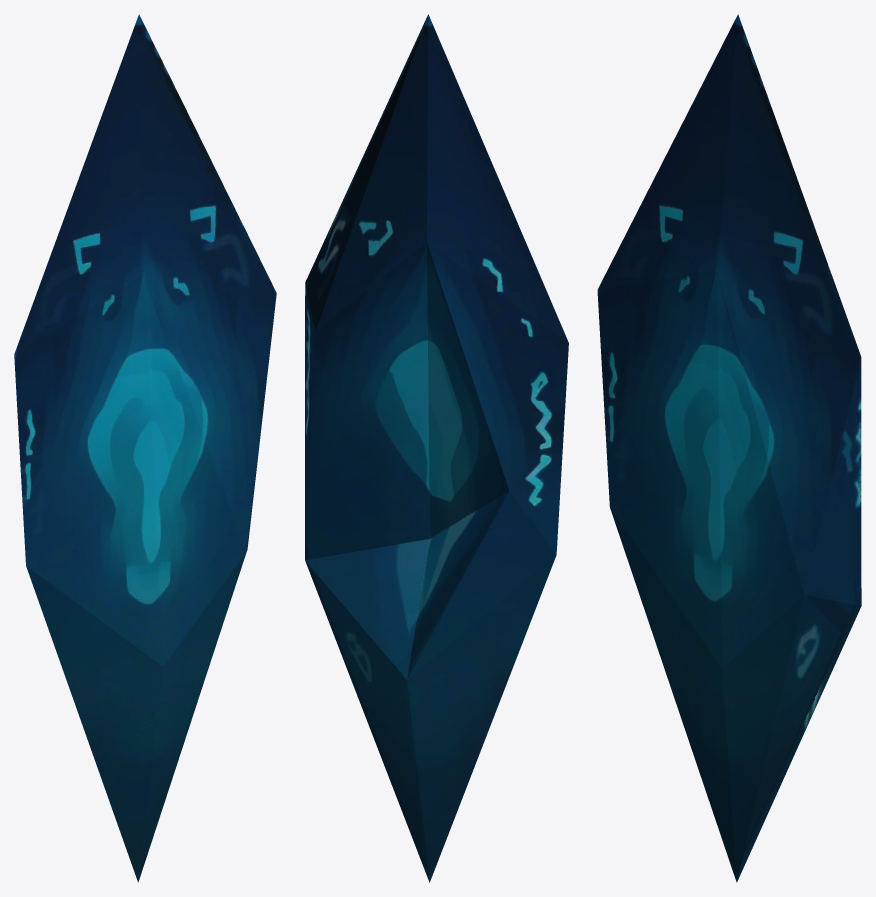
File: ice_crystal_shard_5.glb
The picture shows the model from 3 angles, left to right: view 1: azimuth 30°, elevation 25°; view 2: azimuth 150°, elevation 25°; view 3: azimuth 330°, elevation 25°; orthographic projection.
Size of the model in its own units: 0.6296 by 1.99 by 0.2102.
Materials: 1 (1 with a texture image).
